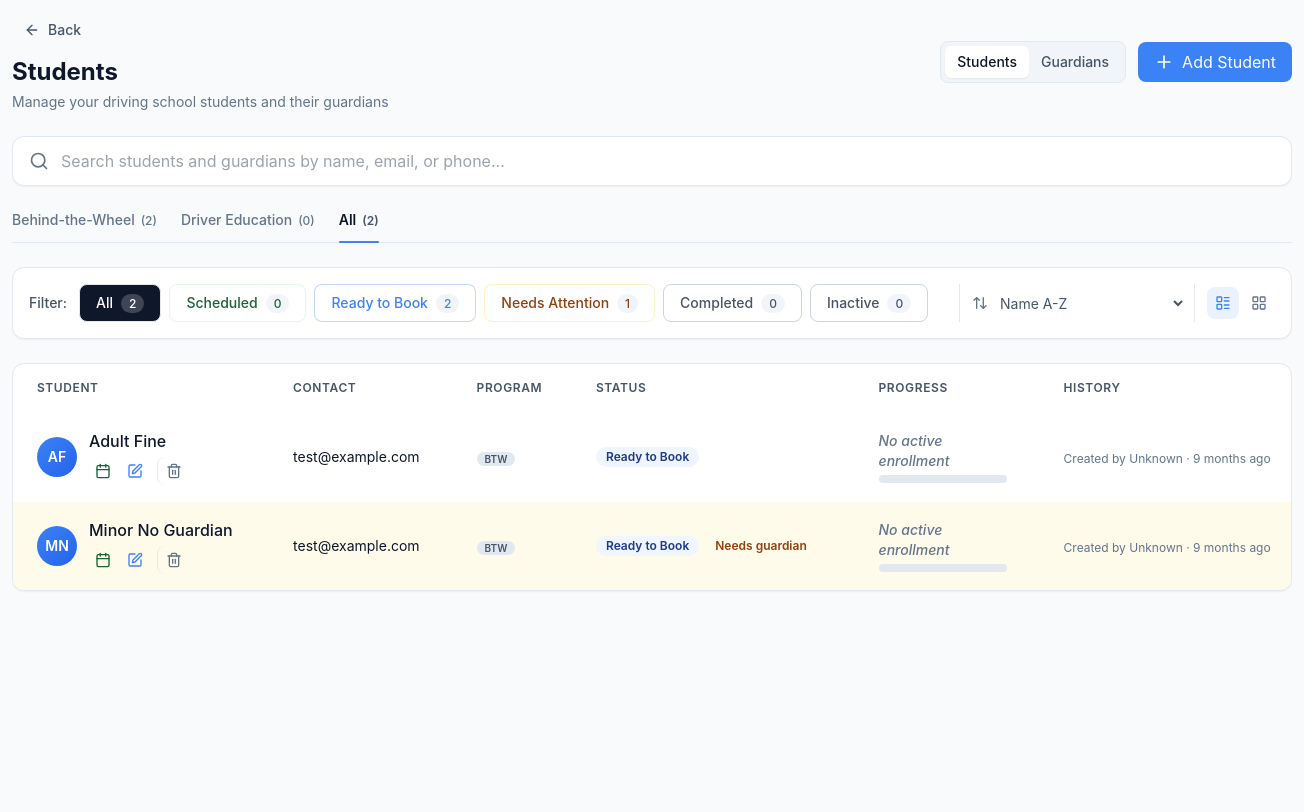
Students list - needsGuardian flagging folds into Needs Attention › the "Needs Attention" filter includes a needs-guardian student even when their base status is Ready to Book
The image size is (1304, 812).
Expected: the text "Adult Fine" is shown, [89,429,166,453]
Click the button "Needs Attention1": click(570, 303) [484,284,655,322]
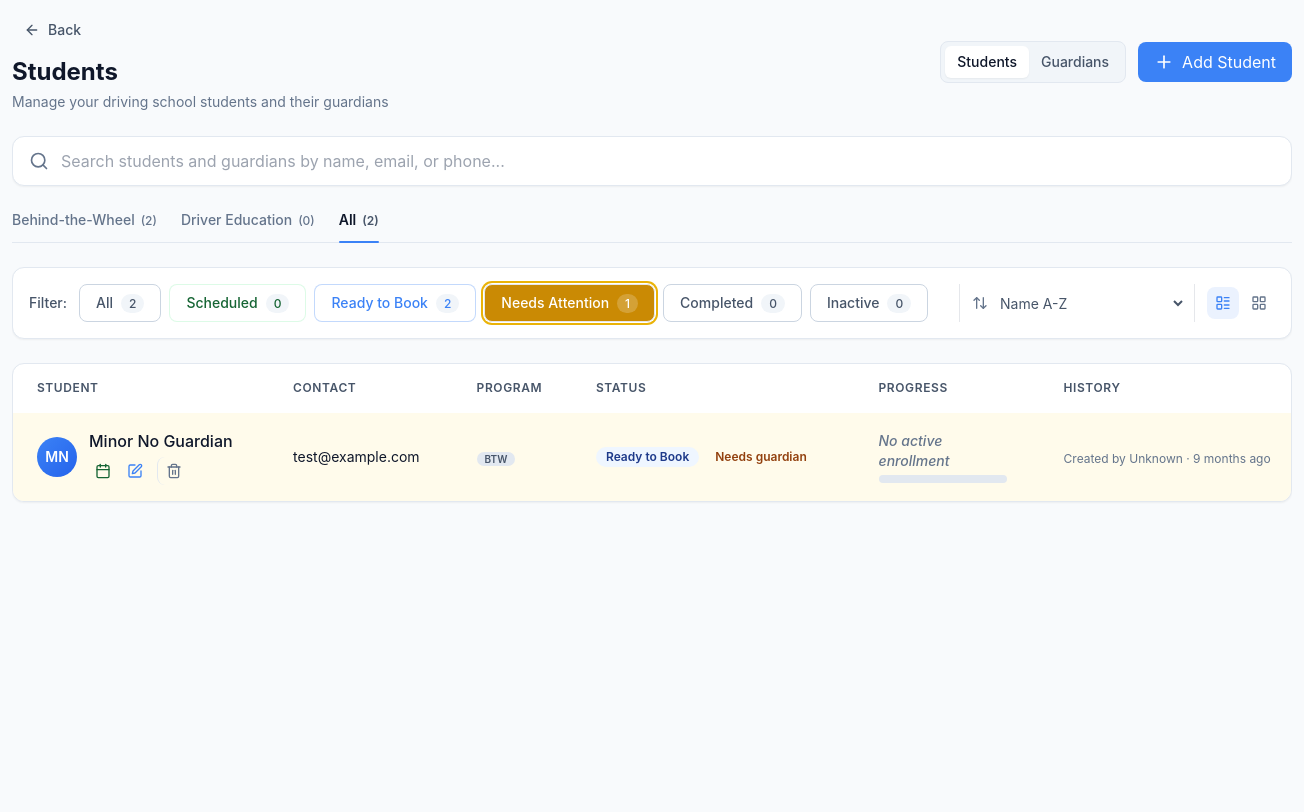
Expected: the text "Minor No Guardian" is shown, [89,429,233,453]
Expected: the text "Adult Fine" is gone
